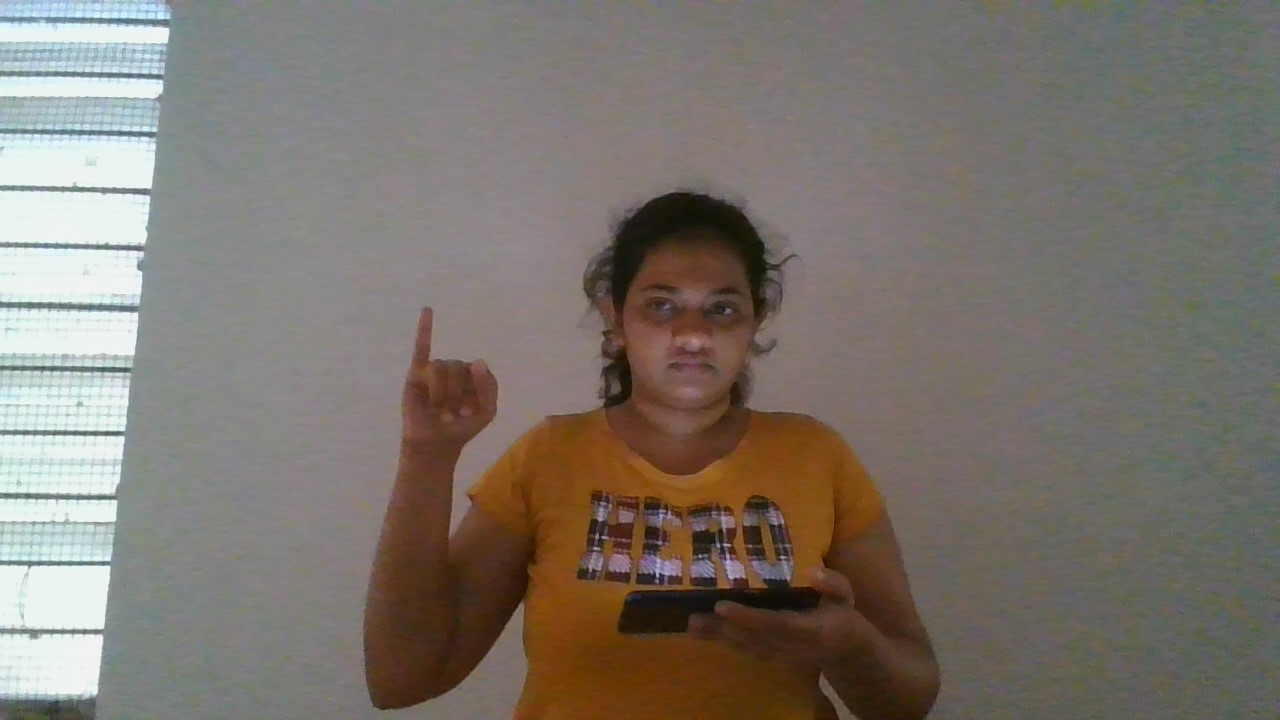i: (372, 300, 508, 460)
